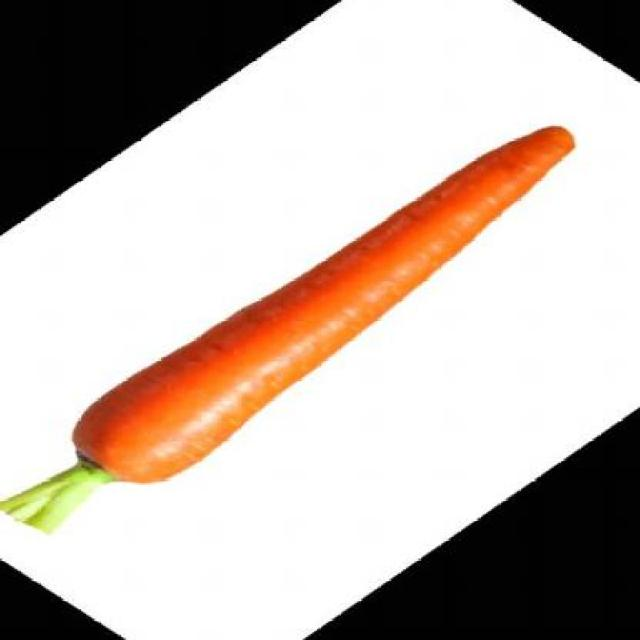carrot: (43, 99, 629, 499)
